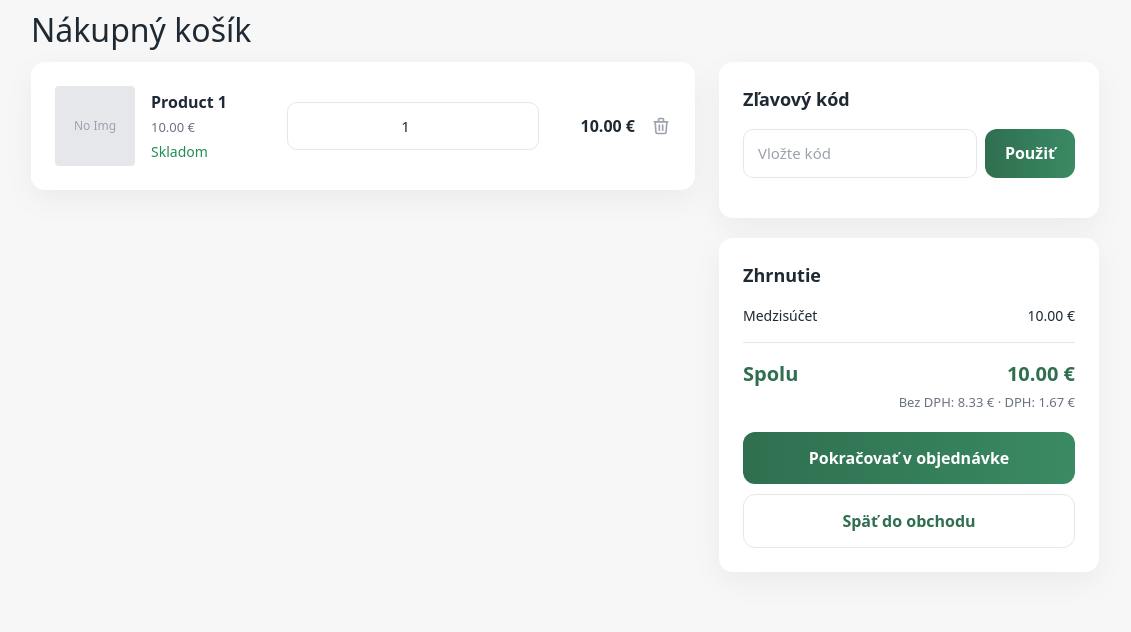
it: Cart Component › displays specific error message when discount code is not found
The width and height of the screenshot is (1131, 632).
Type "INVALID" into the field with placeholder "Vložte kód".
click(860, 153); type("INVALID")  # box [743, 129, 977, 178]
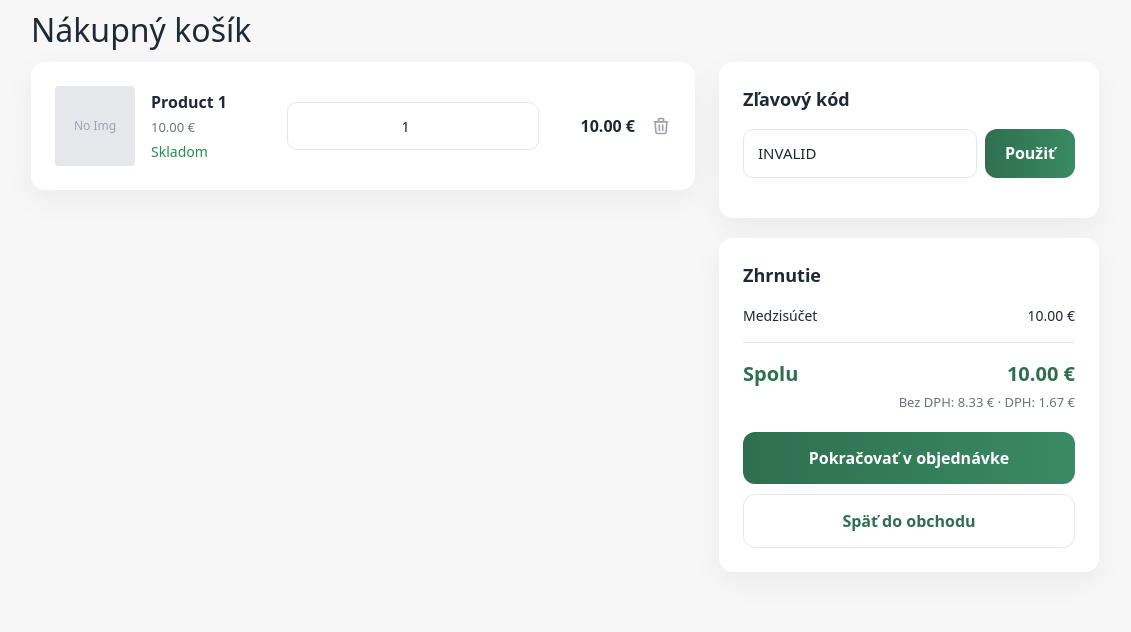
Click the button "Použiť".
click(1030, 153)  # box [985, 129, 1075, 178]
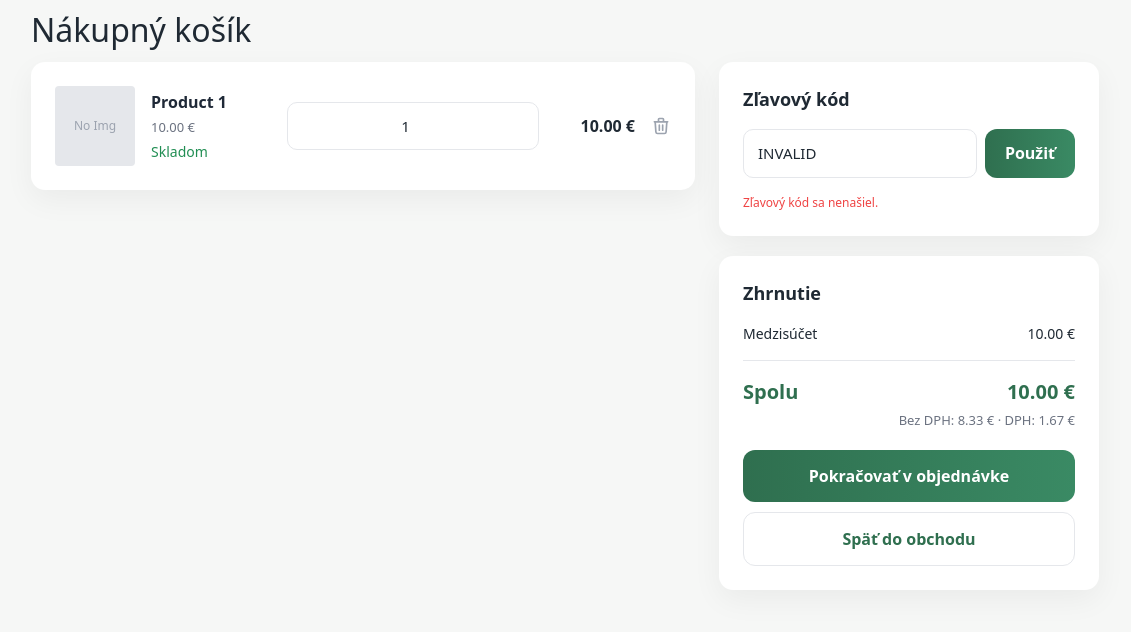
Expected: the text "Zľavový kód sa nenašiel." is shown, [743, 194, 878, 210]
